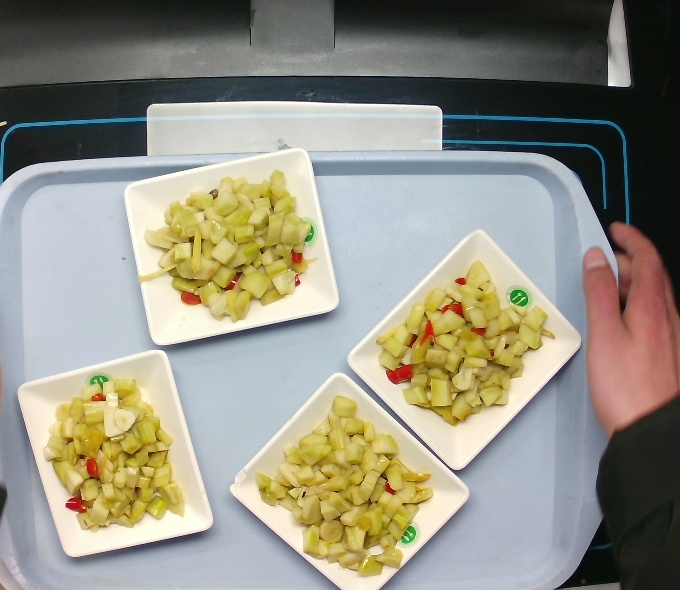wcq-YanHuaCaiGeng: (257, 396, 433, 578), (375, 264, 556, 428), (150, 169, 316, 323), (45, 371, 183, 531)
